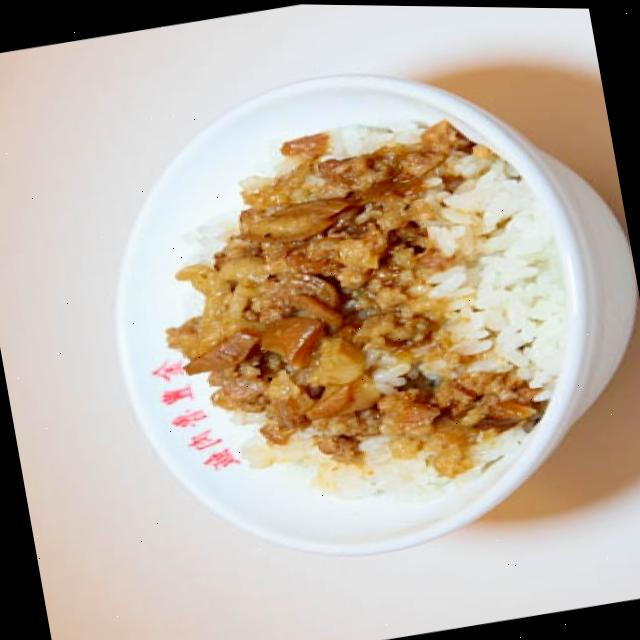猪肉菜式: (19, 0, 640, 636)
